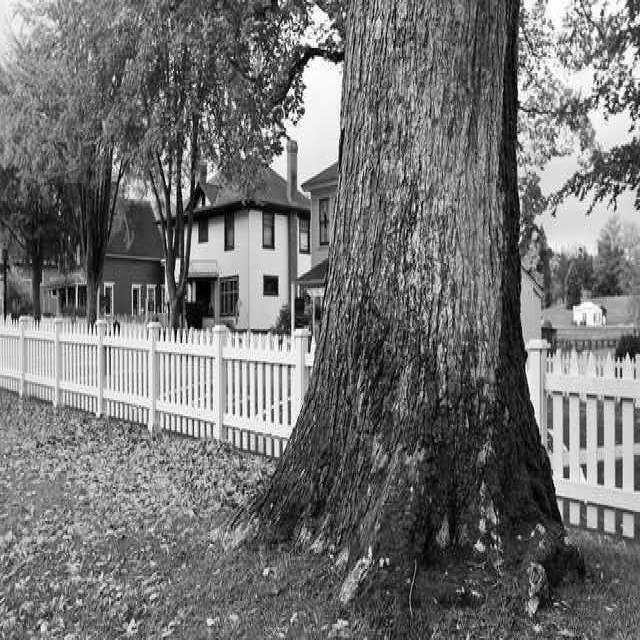Tree: (225, 0, 559, 572), (0, 0, 345, 328)
